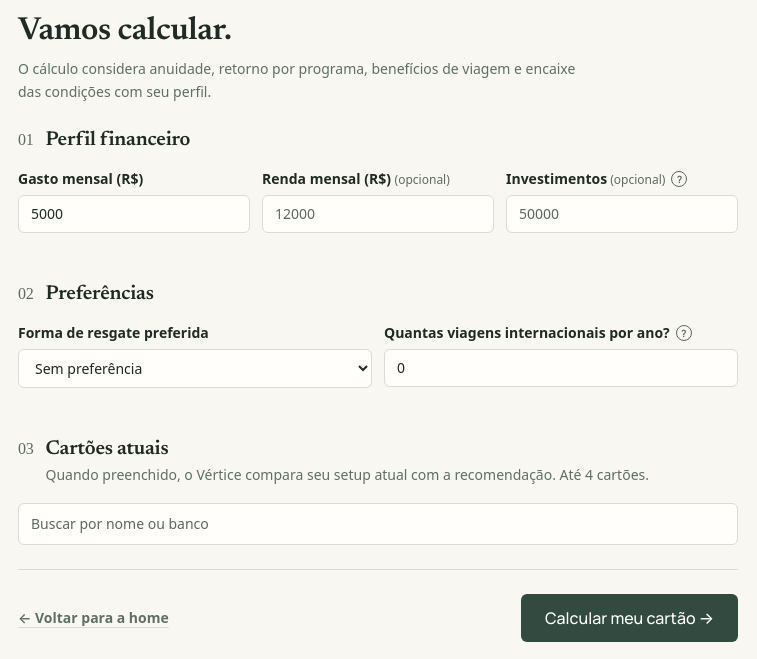
Test: InputForm › selects a card via combobox and renders it as a chip
This screenshot has width=757, height=659.
Click the dropdown with placeholder "Buscar por nome ou banco".
click(378, 524)  # box [27, 510, 729, 538]
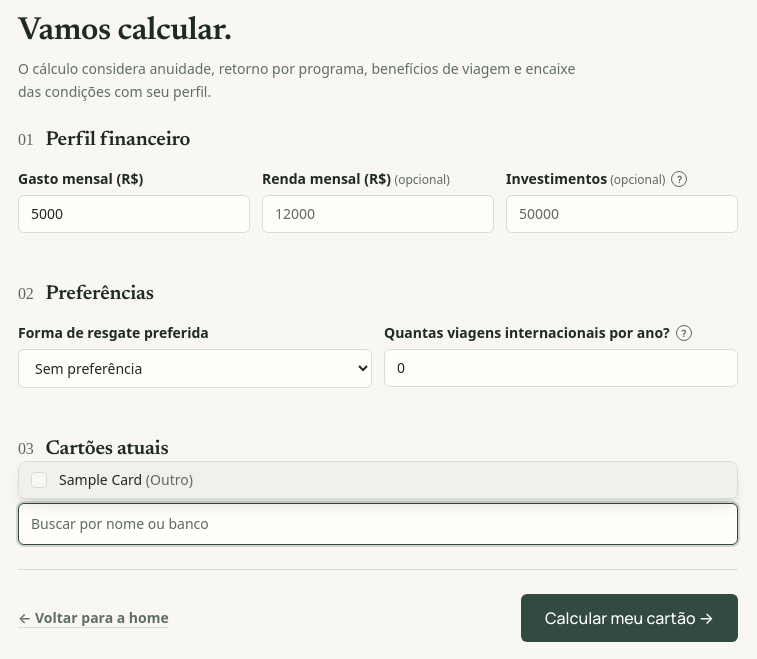
Click the option "Sample Card (Outro)".
click(101, 480)  # box [19, 462, 737, 498]
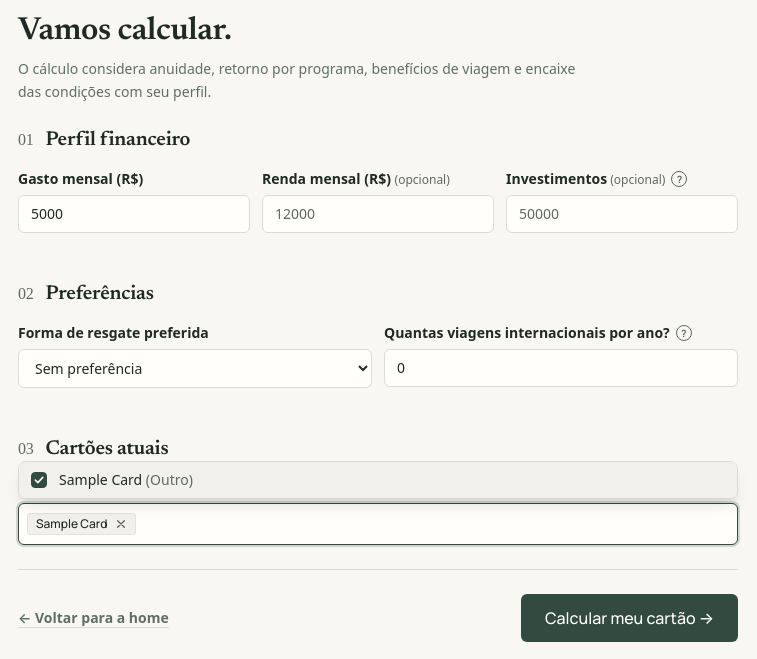
Result: the button named "Remover Sample Card" is shown at [113, 516, 129, 532]
